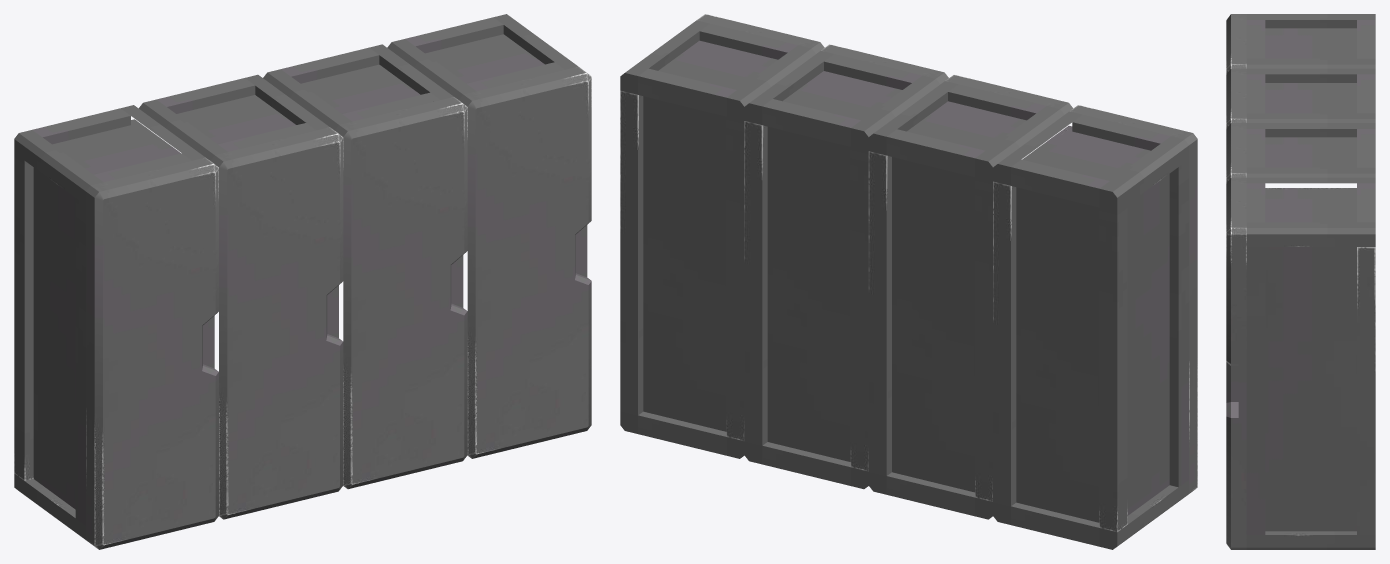
Rendered from Cont_LockerGroup_Static.glb.
The picture shows the model from 3 angles, left to right: view 1: azimuth 30°, elevation 25°; view 2: azimuth 150°, elevation 25°; view 3: azimuth 270°, elevation 25°; orthographic projection. The views are drawn at different scales.
Parts seen in each view (by area): view 1: Cont_LockerGroup_Static; view 2: Cont_LockerGroup_Static; view 3: Cont_LockerGroup_Static.
Boxes of the visible parts, x1,y1,x2,y2 form: Cont_LockerGroup_Static: [14, 14, 591, 549]; Cont_LockerGroup_Static: [620, 14, 1197, 549]; Cont_LockerGroup_Static: [1226, 14, 1375, 549].
Size of the model in its own units: 2.91 by 2 by 0.8404.
1 material, 1 textured.
